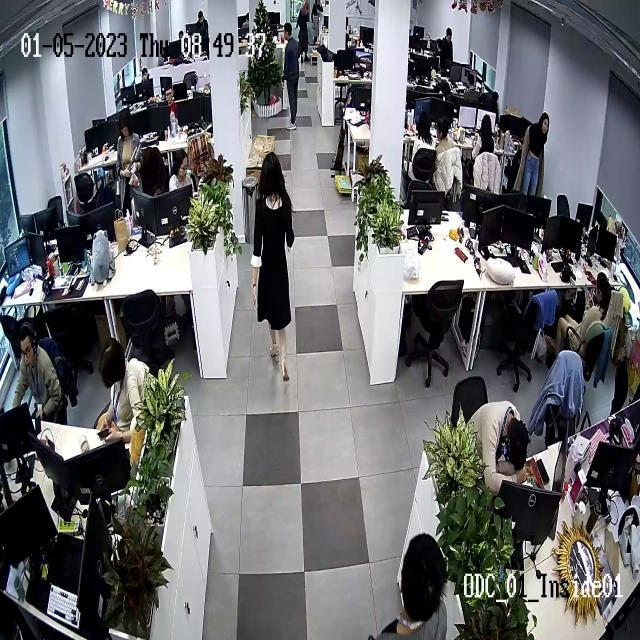person: (251, 152, 295, 382), (368, 533, 449, 639), (470, 401, 546, 499), (547, 272, 614, 368), (94, 338, 150, 449), (9, 324, 64, 425), (515, 111, 550, 197), (115, 113, 144, 215), (435, 115, 464, 208), (472, 114, 502, 195), (282, 22, 300, 130), (168, 150, 194, 194), (439, 27, 454, 73), (161, 85, 178, 125)
